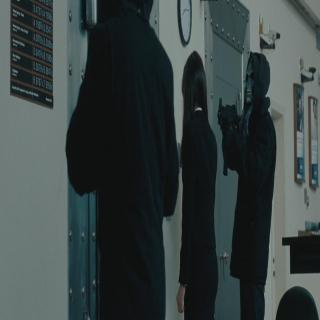gun: (217, 96, 245, 175)
